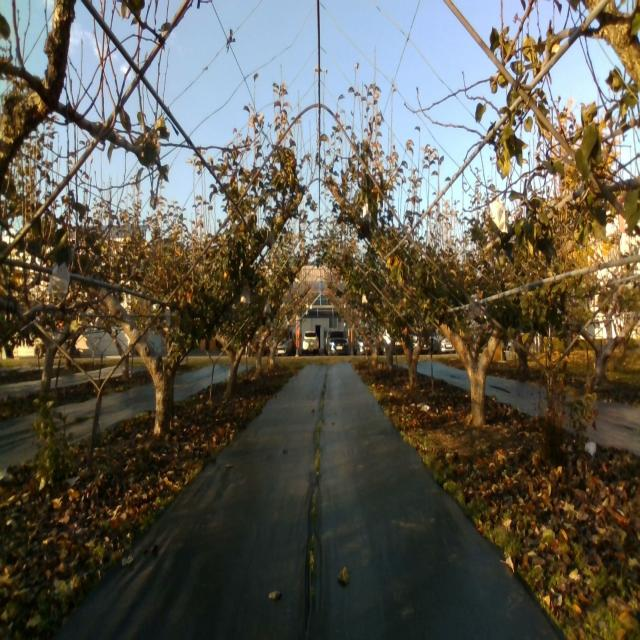pearbags: (49, 264, 70, 296), (490, 202, 509, 234)
